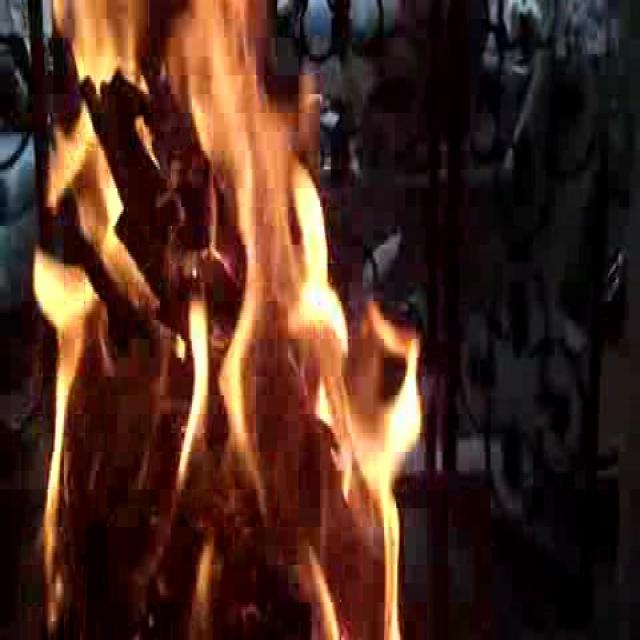fire: (39, 9, 412, 633)
